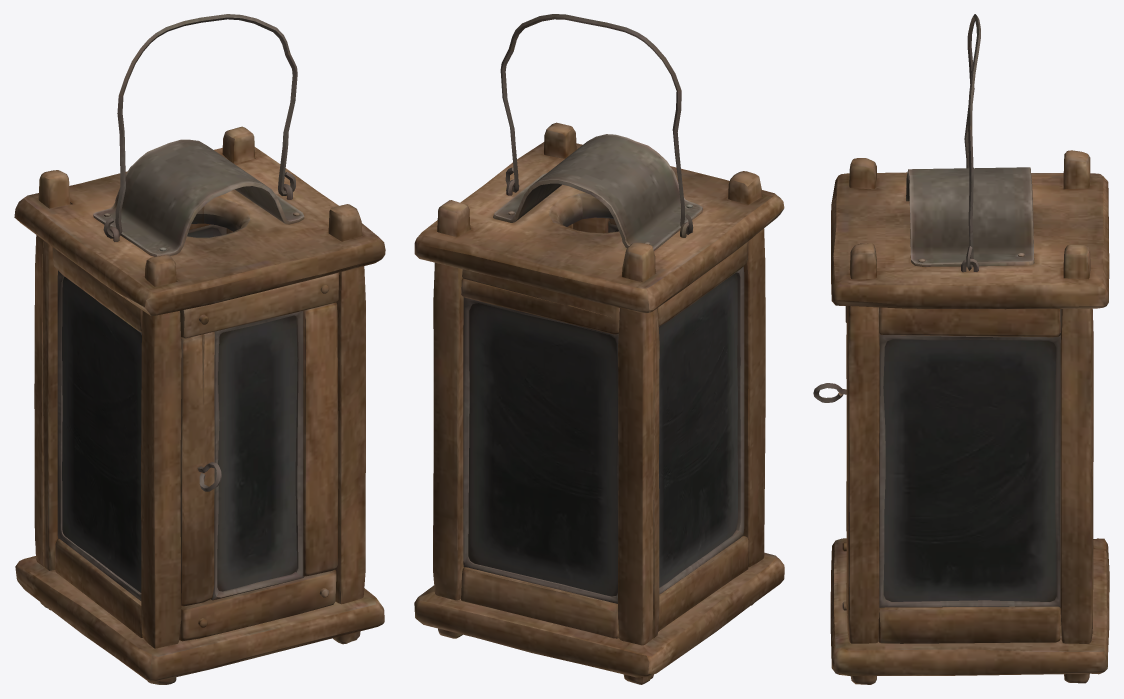
File: wooden_lantern_01.glb
3 views of the same model, side by side, from view 1: azimuth 30°, elevation 25°; view 2: azimuth 150°, elevation 25°; view 3: azimuth 270°, elevation 25° (orthographic).
Parts seen in each view (by area): view 1: wooden_lantern_01_lod0; view 2: wooden_lantern_01_lod0; view 3: wooden_lantern_01_lod0.
Boxes of the visible parts, x1,y1,x2,y2 form: wooden_lantern_01_lod0: [14, 14, 385, 684]; wooden_lantern_01_lod0: [414, 14, 784, 684]; wooden_lantern_01_lod0: [813, 14, 1109, 684].
Size of what is drawn, in the model's own units: 0.221 by 0.5301 by 0.2348.
2 materials, 2 textured.
